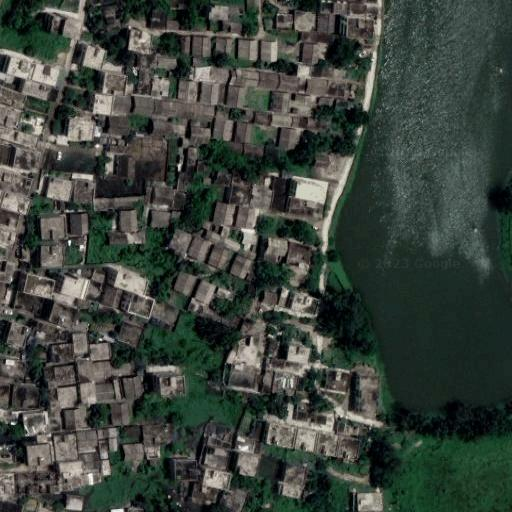building: (286, 173, 330, 220), (227, 333, 261, 393), (6, 56, 66, 89), (198, 423, 234, 473), (188, 298, 239, 329), (143, 423, 174, 463), (143, 187, 174, 225), (0, 125, 41, 152), (356, 374, 381, 418), (286, 288, 320, 318), (173, 101, 217, 123), (31, 319, 71, 343), (21, 80, 60, 104), (218, 484, 251, 512), (48, 301, 79, 329), (284, 241, 313, 270), (266, 423, 298, 449), (13, 291, 45, 317), (115, 272, 151, 295), (188, 64, 229, 84), (0, 191, 32, 216), (204, 242, 232, 270), (17, 112, 46, 139), (39, 216, 69, 242), (203, 232, 242, 252), (24, 274, 55, 299), (85, 268, 107, 303), (273, 369, 300, 397), (60, 273, 89, 299), (45, 342, 76, 366), (324, 368, 351, 395), (12, 385, 40, 411), (185, 235, 211, 263), (117, 322, 144, 348), (126, 28, 153, 54), (13, 148, 41, 173), (282, 462, 310, 487), (128, 294, 156, 319), (47, 177, 73, 203), (64, 405, 89, 432), (175, 79, 202, 104), (7, 322, 31, 350), (83, 45, 108, 71), (56, 385, 82, 410), (264, 237, 289, 263), (23, 412, 50, 436), (150, 303, 178, 326), (100, 5, 123, 33), (351, 492, 383, 512), (46, 410, 68, 439), (94, 197, 143, 210), (316, 432, 341, 457), (294, 428, 319, 453), (102, 73, 128, 97), (27, 445, 53, 469), (55, 436, 79, 462), (212, 118, 238, 142), (24, 97, 55, 117), (68, 120, 96, 142), (272, 175, 288, 213), (258, 454, 282, 479), (337, 436, 361, 461), (121, 441, 145, 466), (169, 227, 192, 253), (173, 271, 196, 297), (213, 201, 235, 228), (270, 90, 292, 117), (203, 469, 231, 490), (174, 171, 189, 210), (151, 77, 175, 101), (229, 254, 252, 279), (193, 280, 216, 305), (248, 188, 273, 211), (131, 95, 156, 118), (0, 257, 19, 287), (347, 18, 375, 38), (40, 244, 64, 267), (236, 205, 259, 229), (235, 435, 260, 457), (160, 375, 185, 397), (133, 69, 152, 97), (229, 184, 252, 207), (226, 85, 248, 109), (199, 81, 220, 106), (275, 73, 300, 94), (190, 484, 219, 502), (237, 454, 258, 478), (107, 116, 132, 136), (175, 461, 201, 480), (202, 221, 231, 238), (73, 182, 94, 205), (316, 12, 337, 35), (110, 402, 130, 426), (92, 361, 112, 385), (115, 154, 135, 178), (287, 343, 312, 362), (59, 460, 85, 478), (154, 99, 175, 121), (123, 375, 143, 398), (278, 127, 298, 150), (296, 10, 316, 33), (152, 187, 176, 206), (79, 381, 97, 406), (0, 208, 21, 229), (190, 124, 211, 145), (257, 69, 278, 90), (90, 93, 112, 113), (151, 119, 175, 137), (305, 79, 329, 97), (112, 96, 133, 116), (237, 39, 258, 59), (54, 366, 76, 385), (70, 213, 89, 235), (234, 122, 253, 144), (76, 360, 94, 383), (150, 210, 174, 227), (280, 483, 305, 499), (95, 382, 115, 402), (307, 116, 332, 132), (89, 342, 110, 361), (120, 211, 138, 233), (299, 33, 335, 44), (76, 431, 99, 448), (60, 476, 86, 491), (64, 20, 82, 41), (238, 227, 259, 245), (230, 69, 251, 87), (303, 42, 321, 63), (0, 440, 18, 461), (14, 241, 31, 263), (108, 233, 145, 243), (214, 286, 237, 302), (260, 290, 281, 307), (72, 332, 88, 354), (135, 53, 157, 69), (38, 480, 61, 495), (50, 18, 67, 38), (252, 420, 269, 440), (268, 114, 292, 128), (261, 40, 277, 61), (0, 472, 15, 494), (278, 286, 291, 311), (65, 494, 84, 511), (208, 6, 231, 20), (339, 83, 359, 99), (186, 147, 197, 176), (0, 143, 13, 166), (105, 62, 126, 76), (224, 143, 245, 157), (215, 37, 232, 54), (52, 292, 76, 304), (349, 4, 367, 20), (112, 377, 125, 399), (112, 287, 125, 309), (238, 246, 257, 261), (245, 144, 265, 158), (313, 67, 338, 78), (151, 9, 164, 30), (253, 111, 270, 127), (277, 14, 295, 29), (262, 145, 278, 161), (121, 425, 142, 437), (190, 36, 202, 57), (99, 439, 110, 461), (0, 383, 10, 407), (215, 172, 233, 185), (297, 401, 308, 422), (201, 37, 212, 58), (242, 109, 256, 125), (314, 153, 329, 167), (216, 106, 231, 120), (0, 492, 19, 503), (366, 1, 382, 14), (85, 472, 102, 484), (100, 460, 112, 477), (156, 58, 176, 68), (166, 0, 188, 9), (296, 62, 310, 76), (194, 159, 207, 174), (164, 19, 180, 31), (84, 462, 101, 473), (249, 68, 260, 85), (23, 498, 36, 512), (230, 20, 244, 33), (34, 433, 49, 445), (179, 36, 190, 52), (83, 453, 100, 463), (104, 427, 118, 439), (321, 2, 335, 14), (246, 0, 258, 14), (335, 3, 350, 14), (50, 400, 63, 412), (356, 424, 368, 437), (296, 94, 312, 103), (337, 420, 348, 433), (319, 97, 333, 107), (298, 77, 308, 91), (263, 176, 274, 188), (336, 100, 350, 109), (316, 414, 327, 425), (128, 506, 148, 512), (79, 447, 96, 454), (109, 439, 118, 452), (173, 208, 181, 221), (291, 118, 300, 129), (298, 119, 308, 127), (29, 485, 38, 493), (201, 178, 211, 185), (47, 382, 58, 388), (97, 428, 103, 438), (194, 57, 201, 65), (294, 107, 301, 113), (111, 509, 123, 512)
